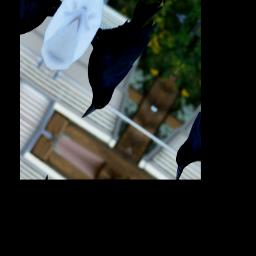Crow: (56, 0, 169, 130)
